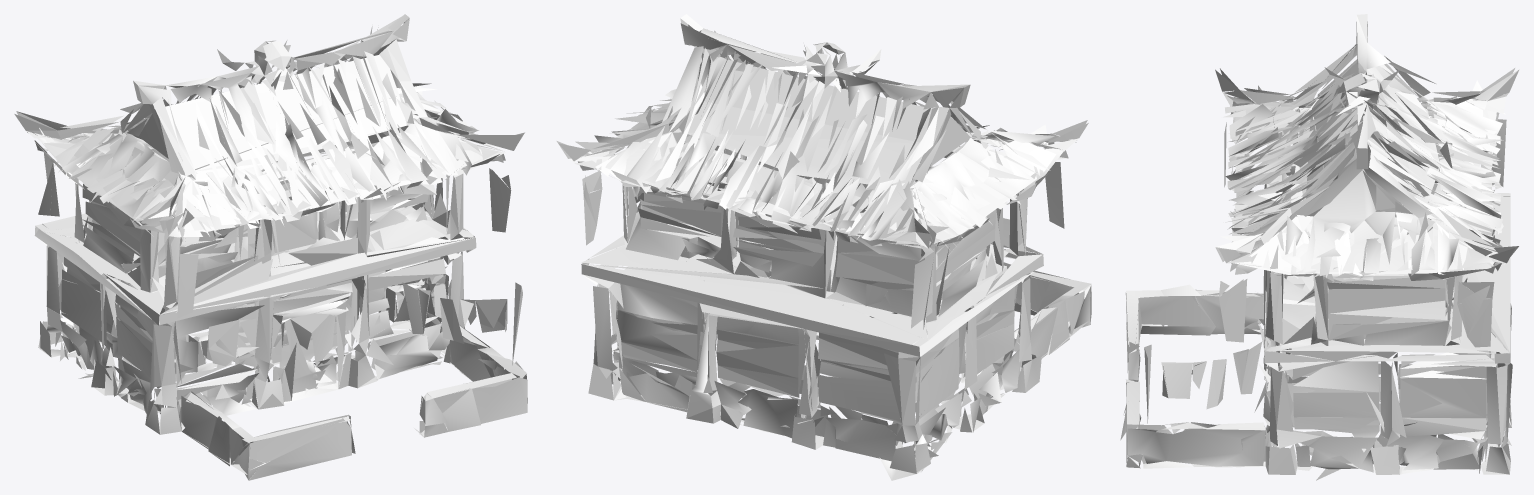
The model's file is house_timber_b_lod1.glb.
3 views of the same model, side by side, from view 1: azimuth 30°, elevation 25°; view 2: azimuth 150°, elevation 25°; view 3: azimuth 270°, elevation 25° (orthographic). The views are drawn at different scales.
Visible parts, largest first — view 1: house_timber_b; view 2: house_timber_b; view 3: house_timber_b.
Boxes of the visible parts, x1,y1,x2,y2 form: house_timber_b: [14, 14, 527, 480]; house_timber_b: [556, 14, 1091, 480]; house_timber_b: [1120, 14, 1519, 480].
Bounding box in the file's own units: 8.07 × 7.19 × 7.53.
1 material, 1 textured.
